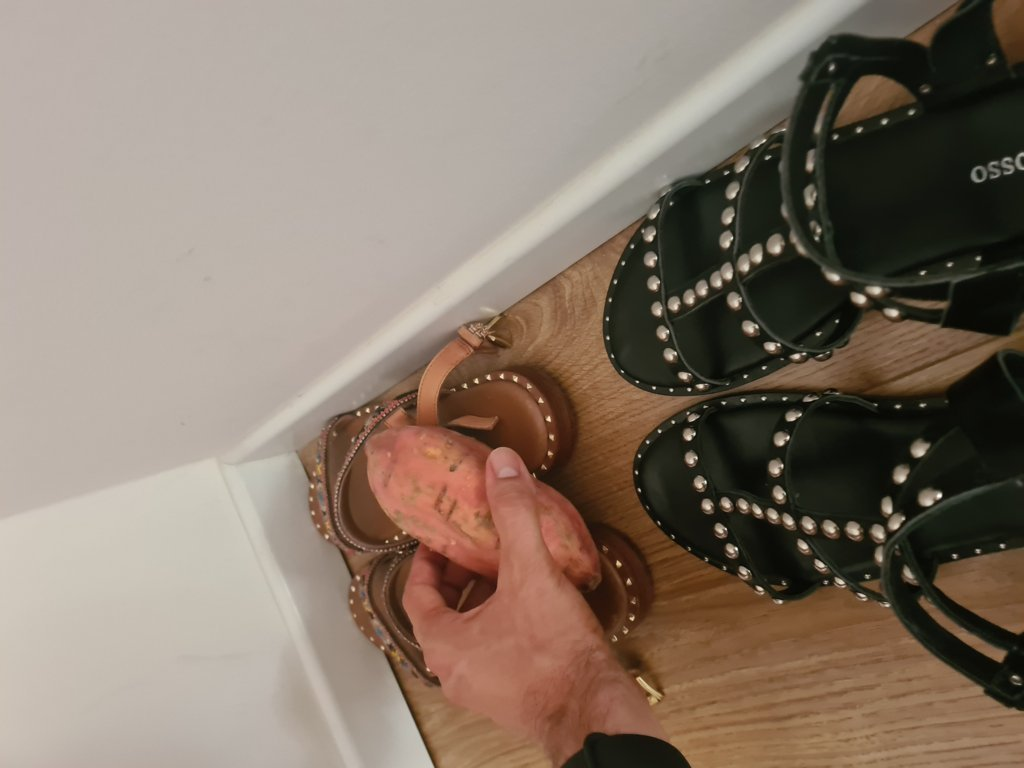Sweet Potatow: (360, 425, 603, 586)
